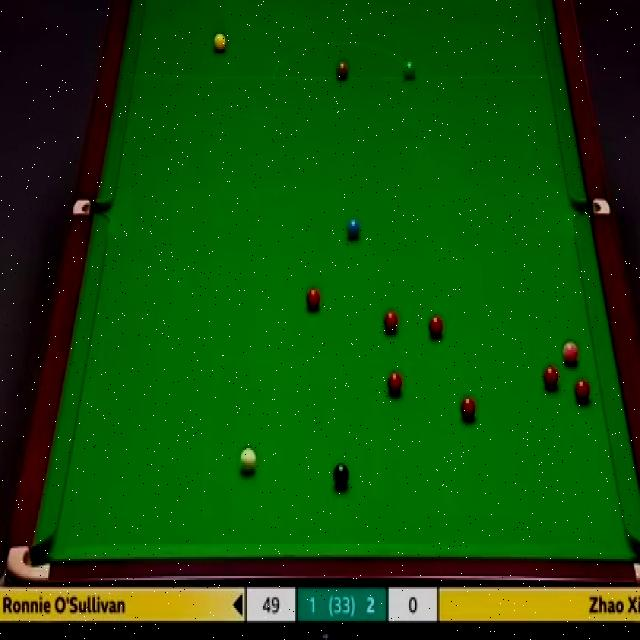black-ball: (334, 460, 350, 487)
blue-ball: (346, 215, 361, 242)
brown-ball: (335, 60, 350, 80)
green-ball: (402, 58, 417, 82)
pink-ball: (561, 341, 579, 366)
red-ball: (381, 310, 399, 335), (459, 396, 477, 421), (542, 364, 558, 391), (386, 371, 402, 397), (429, 313, 444, 340), (576, 379, 591, 404), (305, 287, 320, 309)
white-ball: (239, 447, 256, 475)
yellow-ball: (214, 34, 227, 54)
